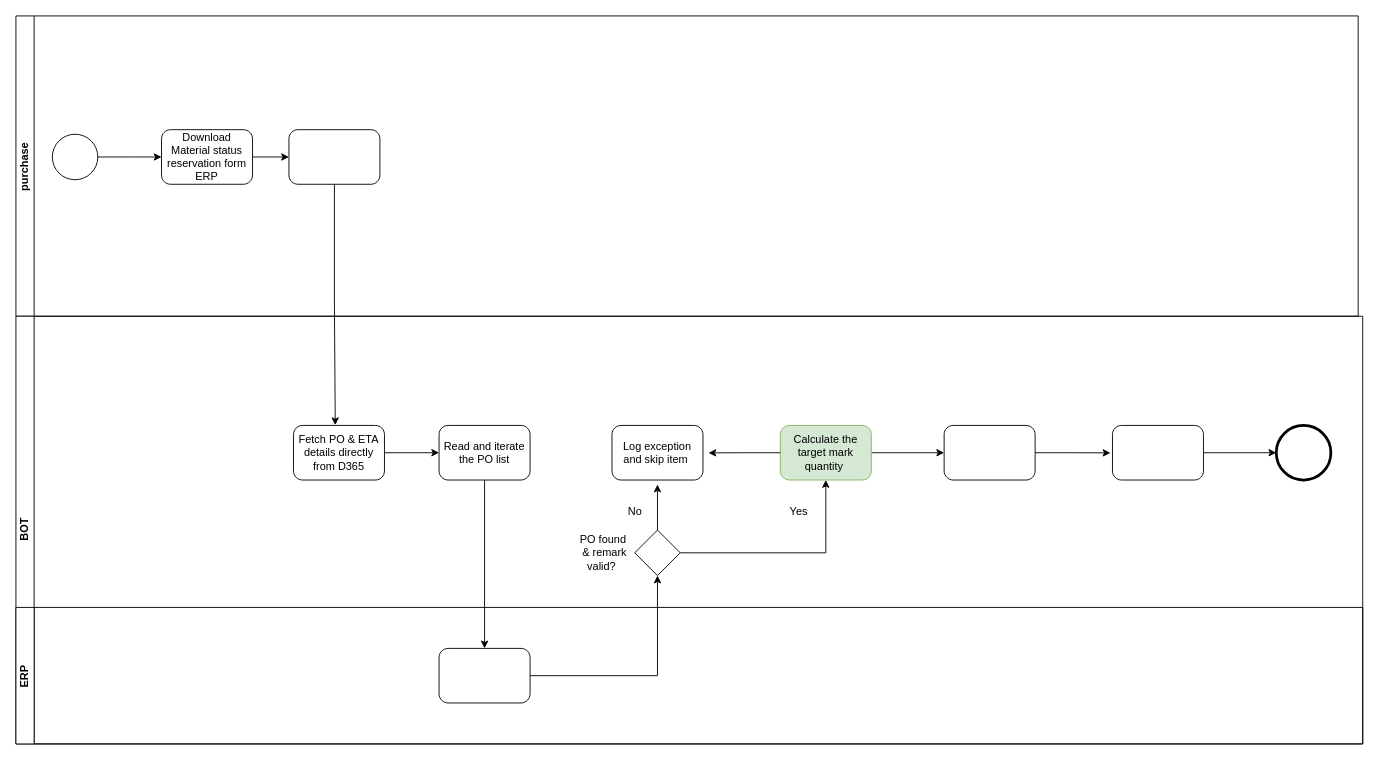
Image size: 1379x760. Some labels were removed from this diagram. The shapes that lost their labels are listed below. From the top down, each one's centre as x and y in pixels, then its label:
At point (334, 156): "Load PO lists to BOT input".
At point (989, 452): "Setmark".
At point (1157, 452): "Record results and send summary".
At point (484, 675): "Retrieve PO line detail and remark".
